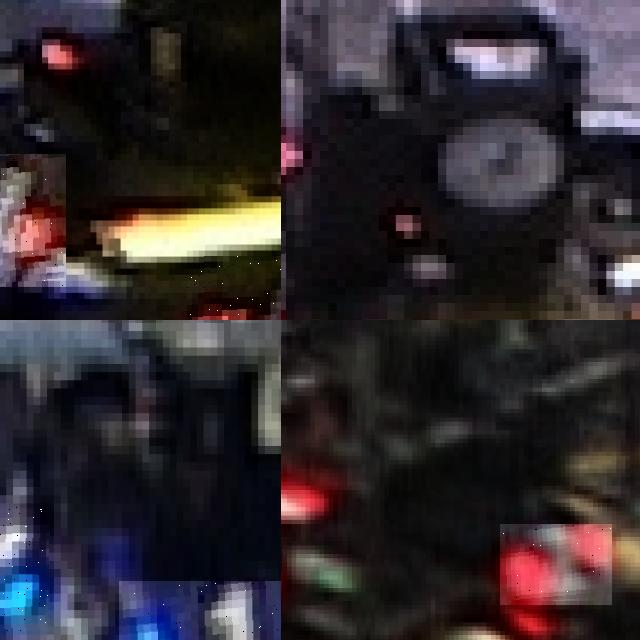B1: (118, 581, 281, 640), (0, 507, 50, 630)
R2: (500, 524, 612, 605)
R4: (0, 154, 66, 287), (186, 256, 281, 320)
